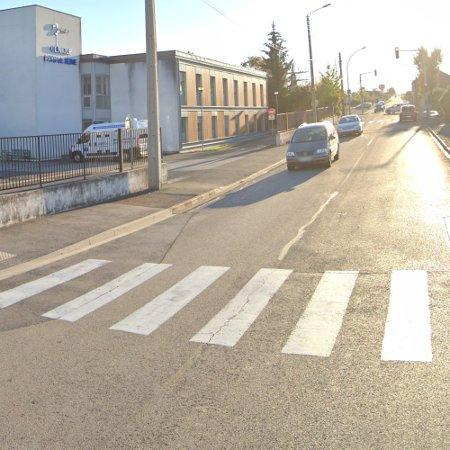crosswalks: (0, 251, 431, 356)
